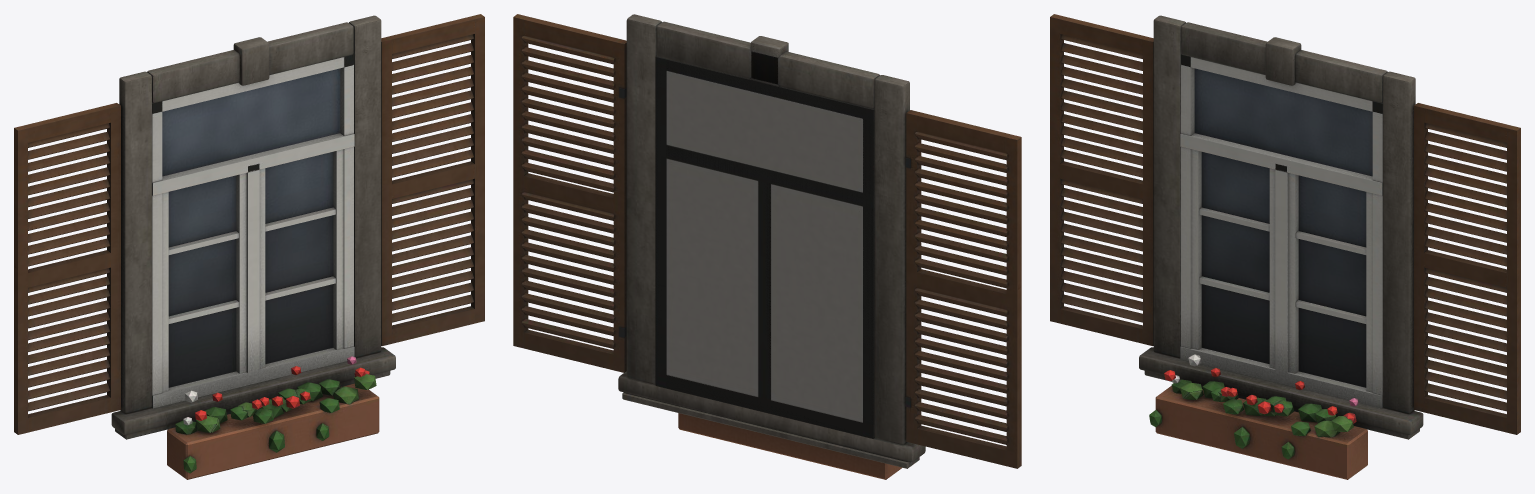
File: win_town_brown_flowers.glb
3 renders of one model, left to right at view 1: azimuth 30°, elevation 25°; view 2: azimuth 150°, elevation 25°; view 3: azimuth 330°, elevation 25°, orthographic. The views are drawn at different scales.
Parts seen in each view (by area): view 1: win_town_brown_flowers; view 2: win_town_brown_flowers; view 3: win_town_brown_flowers.
Boxes of the visible parts, x1=… form: win_town_brown_flowers: x1=14, y1=14, x2=484, y2=479; win_town_brown_flowers: x1=513, y1=14, x2=1021, y2=479; win_town_brown_flowers: x1=1050, y1=14, x2=1520, y2=479.
Bounding box in the file's own units: 2.36 × 1.89 × 0.3697.
Materials: 1 (1 with a texture image).
